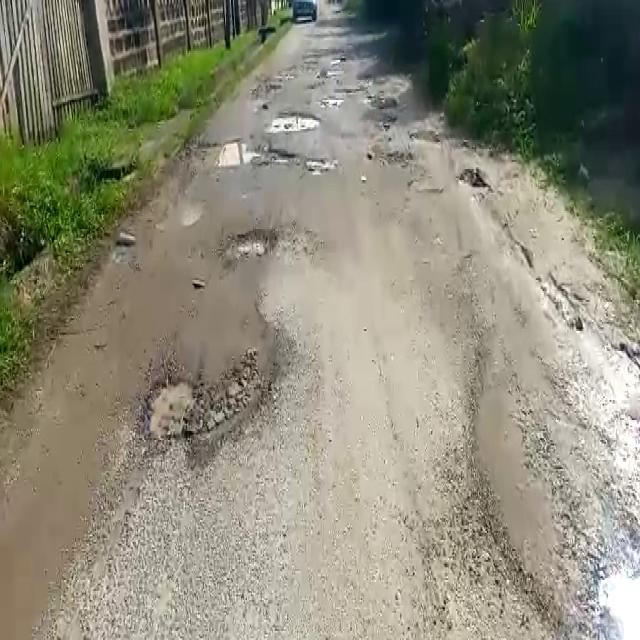Pothole: (130, 338, 288, 463), (595, 556, 639, 640), (208, 137, 297, 168), (220, 226, 283, 262), (266, 110, 325, 131), (306, 154, 338, 172)
